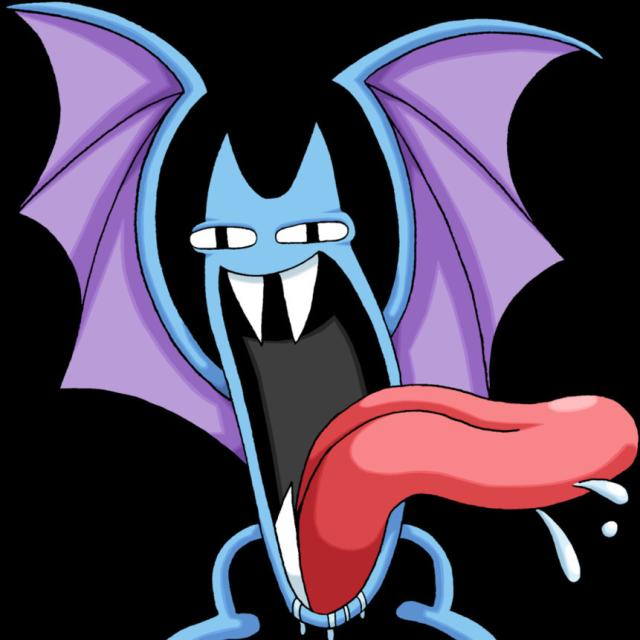Golbat: (117, 67, 482, 640)
